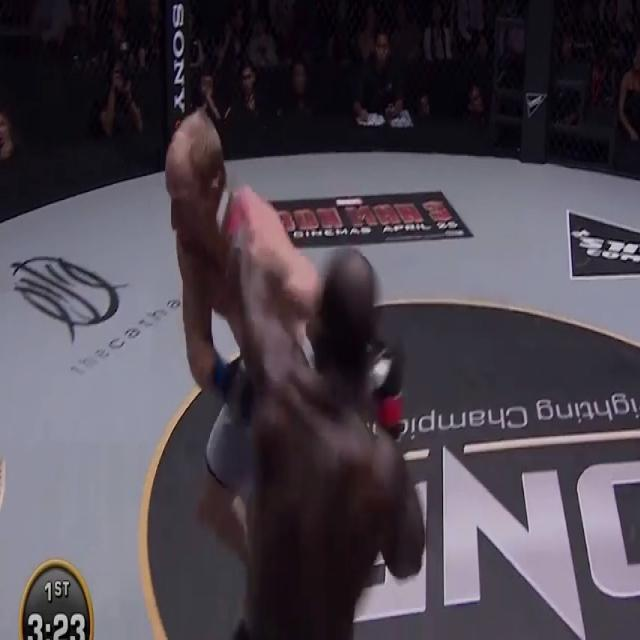fight: (160, 108, 429, 636)
